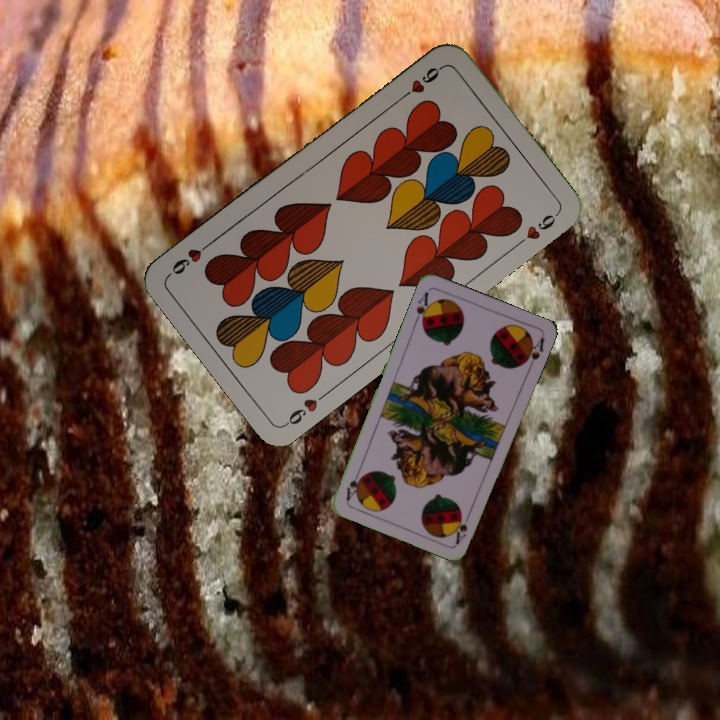H9: (396, 61, 446, 103), (281, 387, 331, 429)
SA: (411, 288, 435, 329), (451, 507, 474, 546)
